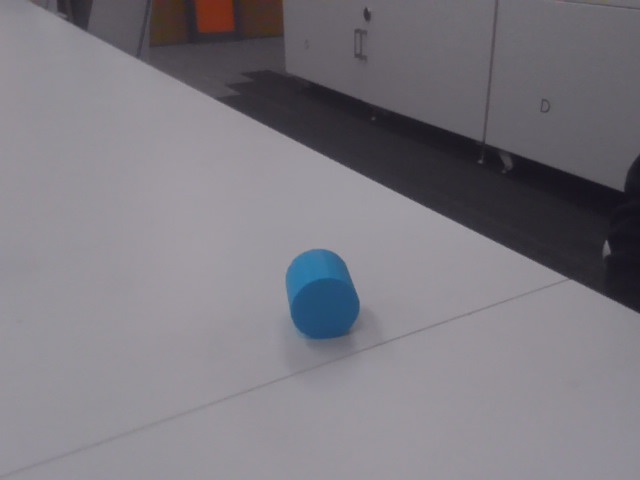cylinder: (285, 249, 361, 339)
